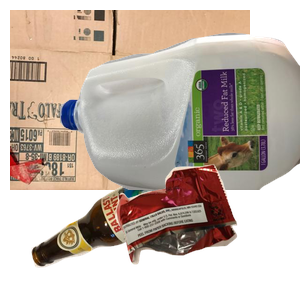cardboard: (10, 10, 250, 190)
glass: (29, 150, 238, 300)
plastic: (60, 30, 300, 210)
trash: (113, 162, 300, 300)
